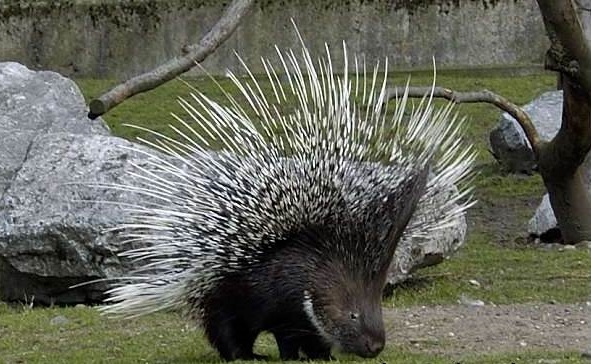porcupine: (77, 38, 481, 364)
